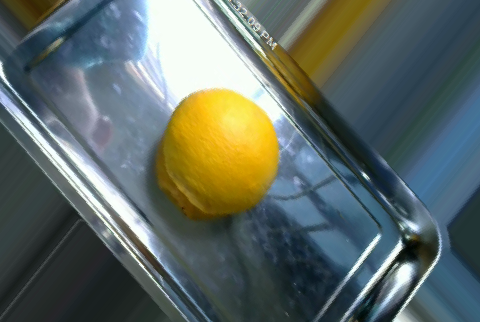Orange: (161, 88, 280, 216)
